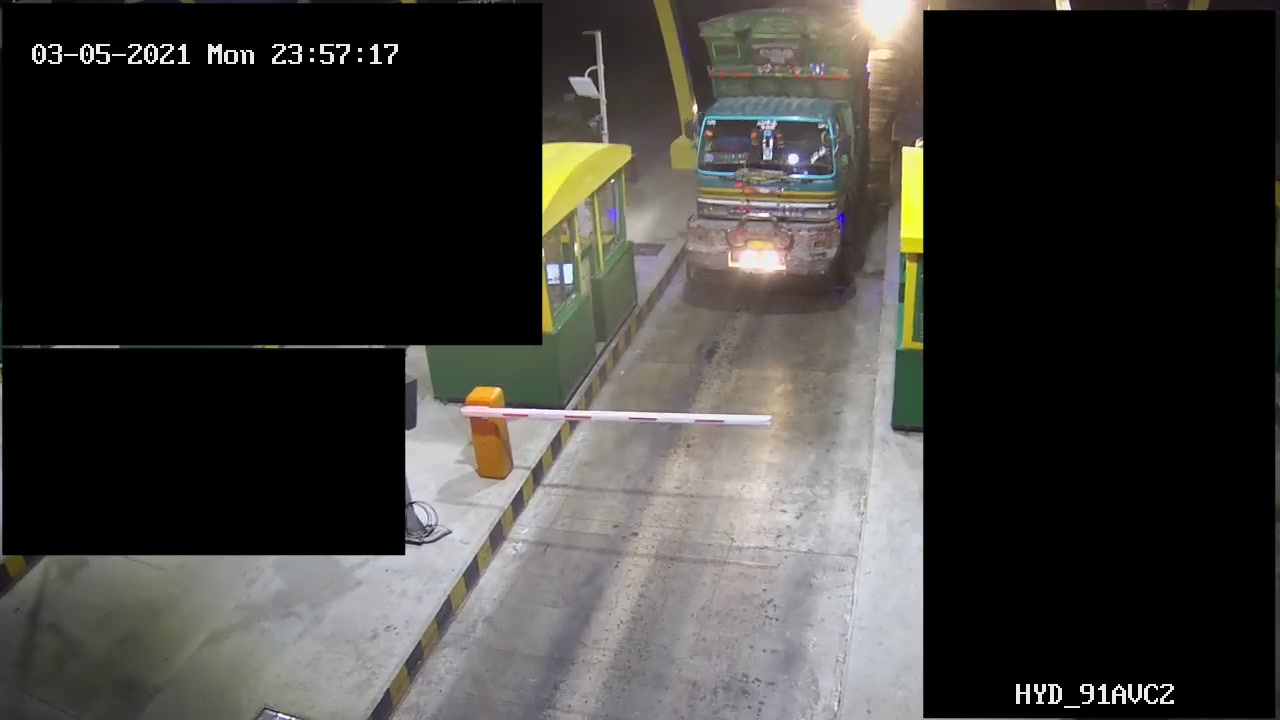F5: (680, 1, 871, 292)
